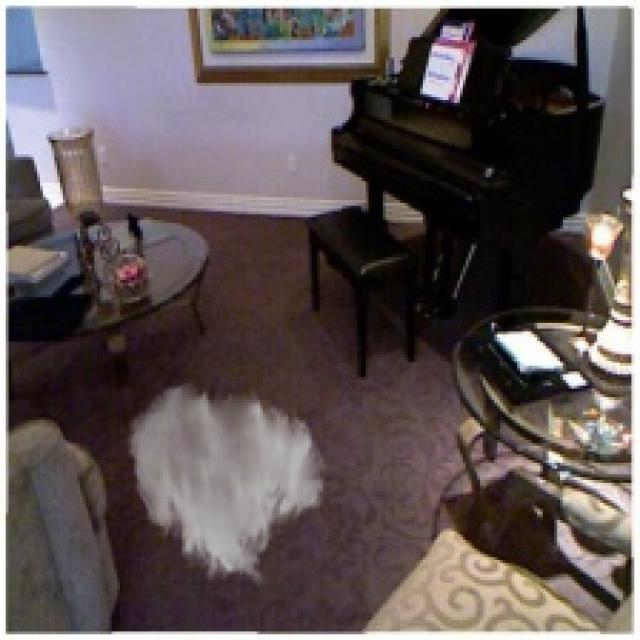smoke: (125, 380, 328, 589)
